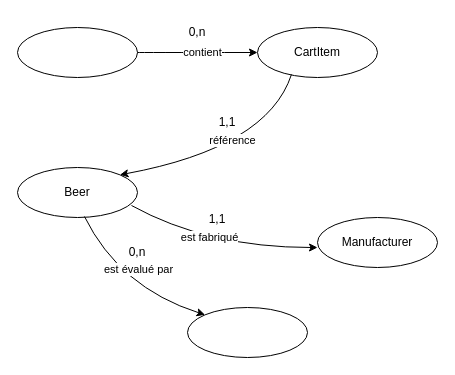
Some shapes in this 455 by 375 pixel diagram are drawn without their labels. Each missing label, with the box of its shape:
Cart: (16, 26, 138, 78)
Evaluation: (186, 306, 308, 358)
